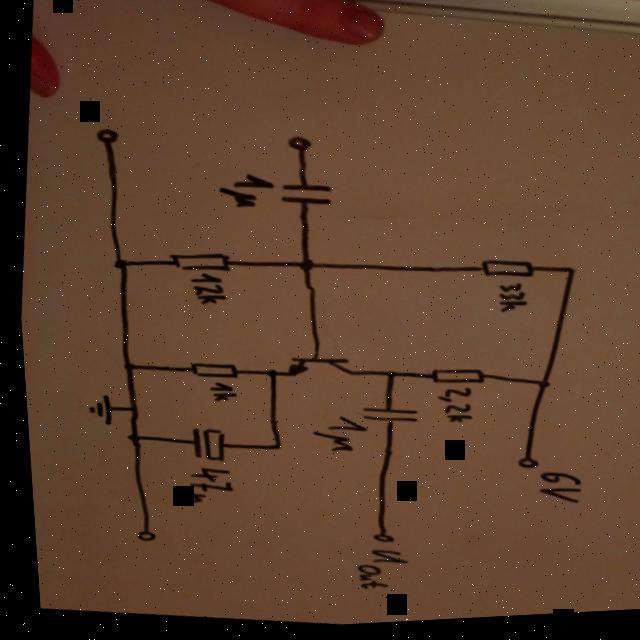capacitor: (271, 173, 334, 221), (353, 400, 418, 437), (175, 423, 227, 467)
ground: (79, 392, 112, 428)
junction: (291, 257, 316, 277), (105, 255, 130, 274), (114, 358, 134, 375), (118, 431, 137, 446), (558, 268, 578, 282), (528, 382, 547, 396), (259, 368, 276, 382), (379, 371, 396, 383), (120, 404, 136, 416), (264, 443, 277, 456)
resistor: (417, 363, 485, 396), (163, 246, 233, 278), (468, 258, 535, 287), (180, 358, 239, 384)
terminal: (279, 133, 314, 161), (90, 122, 121, 149), (124, 526, 153, 546), (361, 531, 391, 550), (508, 458, 535, 477)
text: (165, 461, 232, 512), (341, 547, 402, 599), (303, 412, 365, 461), (210, 169, 275, 215), (528, 472, 579, 512), (427, 388, 473, 431), (182, 271, 225, 310), (489, 283, 528, 321), (201, 379, 235, 407)
transistor: (277, 349, 354, 394)
